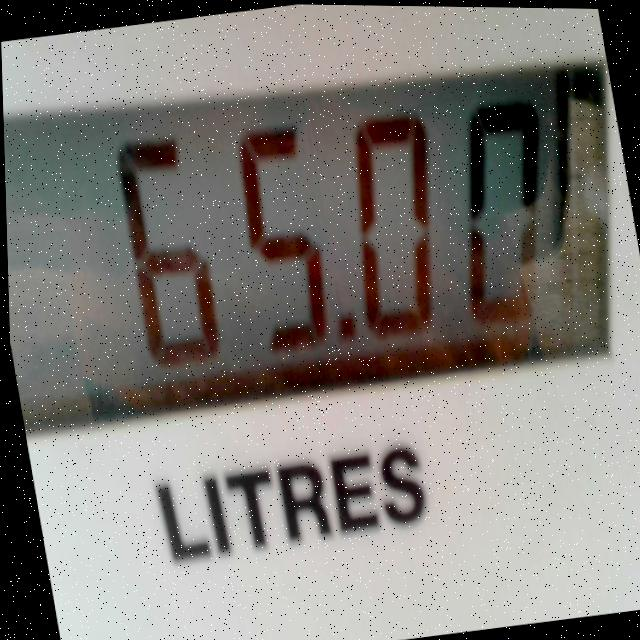.: (316, 288, 375, 373)
0: (429, 81, 574, 367), (318, 104, 465, 366)
5: (210, 97, 347, 365)
6: (96, 112, 233, 380)
